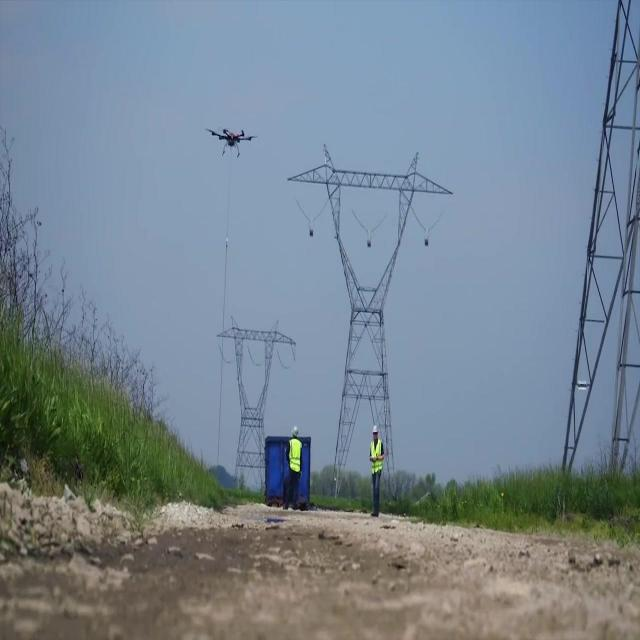UAV: (205, 128, 258, 158)
